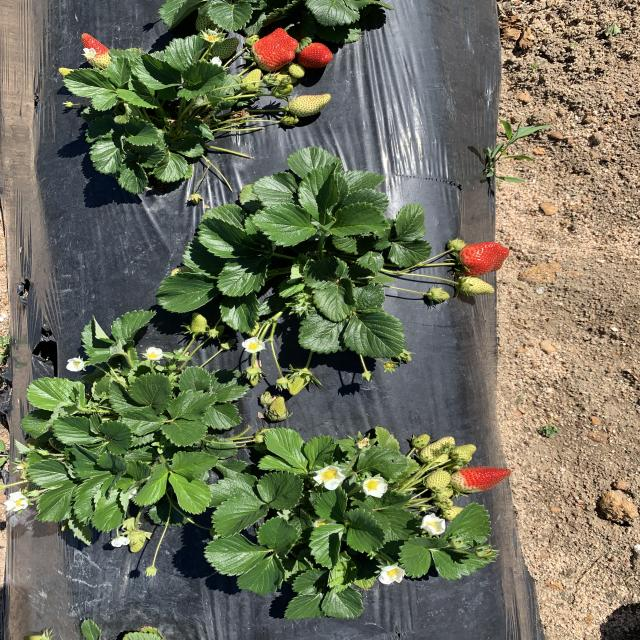unripe: (250, 25, 298, 72), (455, 239, 511, 278), (294, 38, 334, 72)
